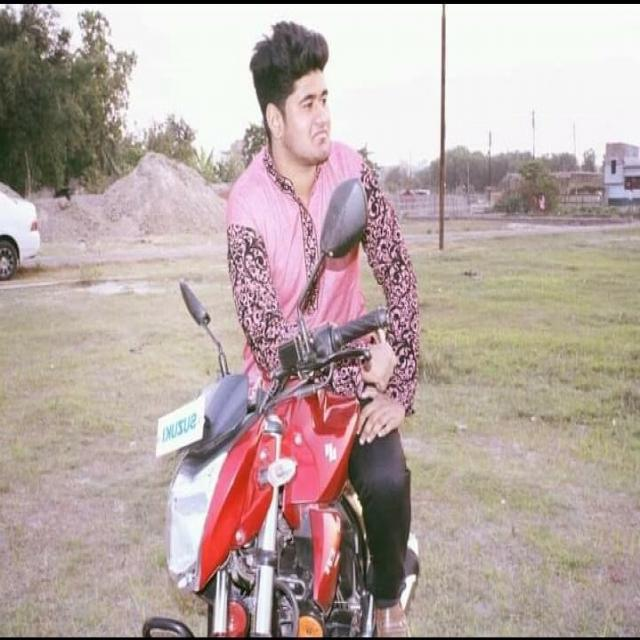Not Wearing Helmet: (270, 15, 330, 191)
